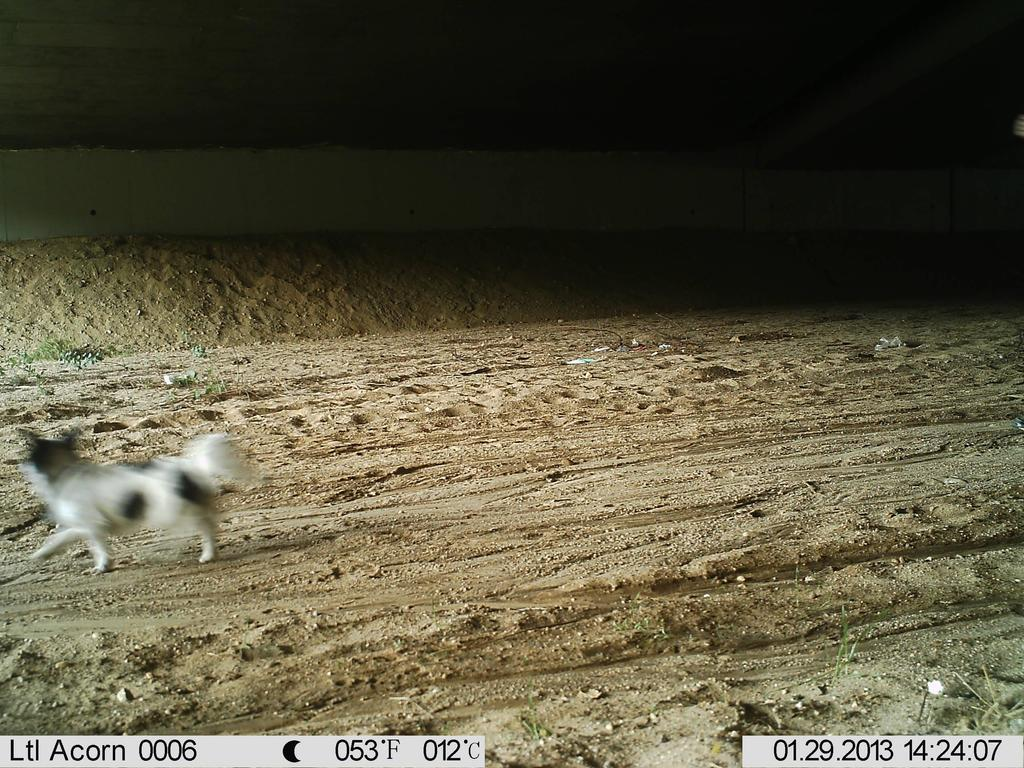dog: (8, 407, 289, 552)
